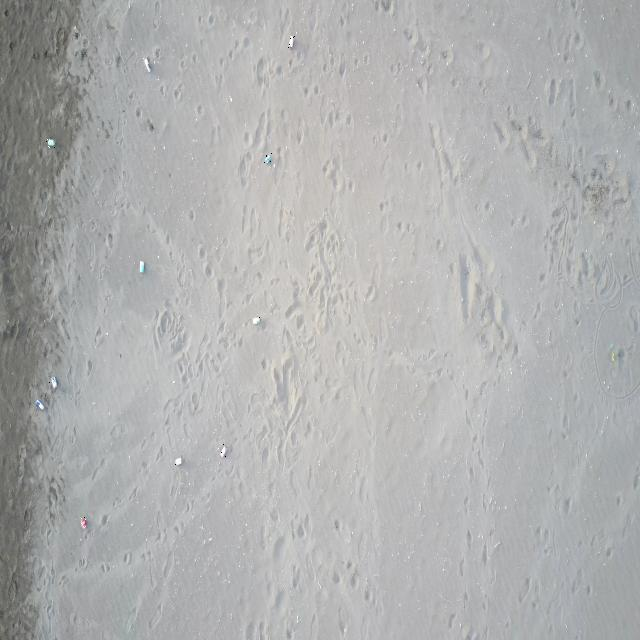Garbage: (143, 56, 150, 71), (45, 138, 55, 148), (609, 350, 616, 363), (219, 443, 226, 456), (263, 152, 271, 163), (80, 515, 87, 527), (48, 376, 55, 388), (287, 35, 293, 48), (35, 400, 43, 409), (252, 316, 260, 324), (173, 456, 181, 464), (139, 260, 143, 272)
